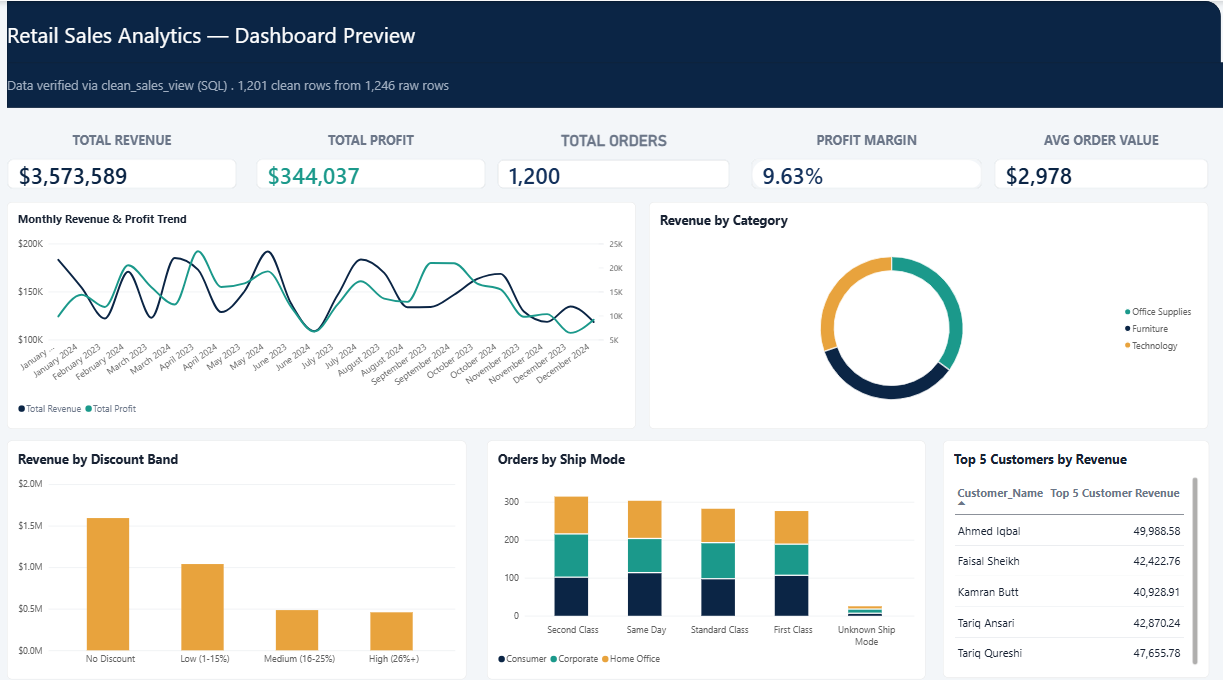

The dashboard page shown, as its layout file describes it:
{"tool":"powerbi","page":{"name":"Overview","canvas":[1920,1080],"ordinal":0},"visuals":[{"type":"cardVisual","title":"TOTAL PROFIT","fields":{"Data":["super_store_sales_data sales_analysis_view.Total Profit Card"]},"box":[408.7,203.2,359.1,89.8],"z":0},{"type":"cardVisual","title":"TOTAL ORDERS","fields":{"Data":["super_store_sales_data sales_analysis_view.Total Orders Card"]},"box":[784.4,203.2,363.8,89.8],"z":1000},{"type":"cardVisual","title":"PROFIT MARGIN","fields":{"Data":["super_store_sales_data sales_analysis_view.Profit Margin Card"]},"box":[1181.3,203.2,361.5,89.8],"z":2000},{"type":"cardVisual","title":"AVG ORDER VALUE","fields":{"Data":["super_store_sales_data sales_analysis_view.Average Order Value Card"]},"box":[1561.7,203.2,335.5,89.8],"z":3000},{"type":"lineChart","title":"Monthly Revenue & Profit Trend","fields":{"Y":["super_store_sales_data sales_analysis_view.Total Revenue"],"Y2":["super_store_sales_data sales_analysis_view.Total Profit"],"Category":["super_store_sales_data sales_analysis_view.Order_Date.Variation.Date Hierarchy.Month","super_store_sales_data sales_analysis_view.Order_Date.Variation.Date Hierarchy.Year"]},"box":[18.9,314.2,982.9,354.4],"z":4000},{"type":"donutChart","title":"Revenue by Category","fields":{"Category":["super_store_sales_data sales_analysis_view.Category"],"Y":["super_store_sales_data sales_analysis_view.Total Revenue"]},"box":[1023,314.2,874.2,354.4],"z":5000},{"type":"clusteredColumnChart","title":"Revenue by Discount Band","fields":{"Category":["super_store_sales_data sales_analysis_view.Discount Band"],"Y":["super_store_sales_data sales_analysis_view.Total Revenue"]},"box":[18.9,687.5,718.2,373.3],"z":6000},{"type":"columnChart","title":"Orders by Ship Mode","fields":{"Category":["super_store_sales_data sales_analysis_view.Ship_Mode"],"Y":["super_store_sales_data sales_analysis_view.Total Orders"],"Series":["super_store_sales_data sales_analysis_view.Segment"]},"box":[767.9,687.5,685.2,373.3],"z":7000},{"type":"tableEx","title":"Top 5 Customers by Revenue","fields":{"Values":["super_store_sales_data sales_analysis_view.Customer_Name","super_store_sales_data sales_analysis_view.Top 5 Customer Revenue"]},"box":[1481.4,687.5,415.8,370.9],"z":8000},{"type":"cardVisual","title":"TOTAL REVENUE","fields":{"Data":["super_store_sales_data sales_analysis_view.Total Revenue Card"]},"box":[18.9,203.2,359.1,89.8],"z":9000},{"type":"shape","box":[18.9,0,1897.2,96.9],"z":10000},{"type":"shape","box":[18.9,96.9,1901.9,70.9],"z":11000}]}

Visuals, with their boxes in screenshot pixels (x1, y1, x2, y2), scaled from the page's 1920x1080 canvas onto the 1223x680 screenshot:
"TOTAL PROFIT" cardVisual: (260, 128, 489, 184)
"TOTAL ORDERS" cardVisual: (500, 128, 731, 184)
"PROFIT MARGIN" cardVisual: (752, 128, 983, 184)
"AVG ORDER VALUE" cardVisual: (995, 128, 1208, 184)
"Monthly Revenue & Profit Trend" lineChart: (12, 198, 638, 421)
"Revenue by Category" donutChart: (652, 198, 1208, 421)
"Revenue by Discount Band" clusteredColumnChart: (12, 433, 470, 668)
"Orders by Ship Mode" columnChart: (489, 433, 926, 668)
"Top 5 Customers by Revenue" tableEx: (944, 433, 1208, 666)
"TOTAL REVENUE" cardVisual: (12, 128, 241, 184)
shape: (12, 0, 1221, 61)
shape: (12, 61, 1222, 106)
